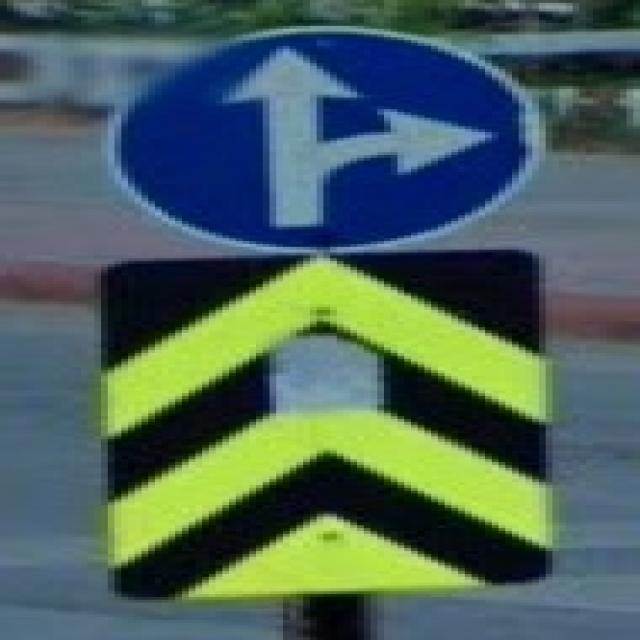Straight or Right: (116, 26, 527, 247)
